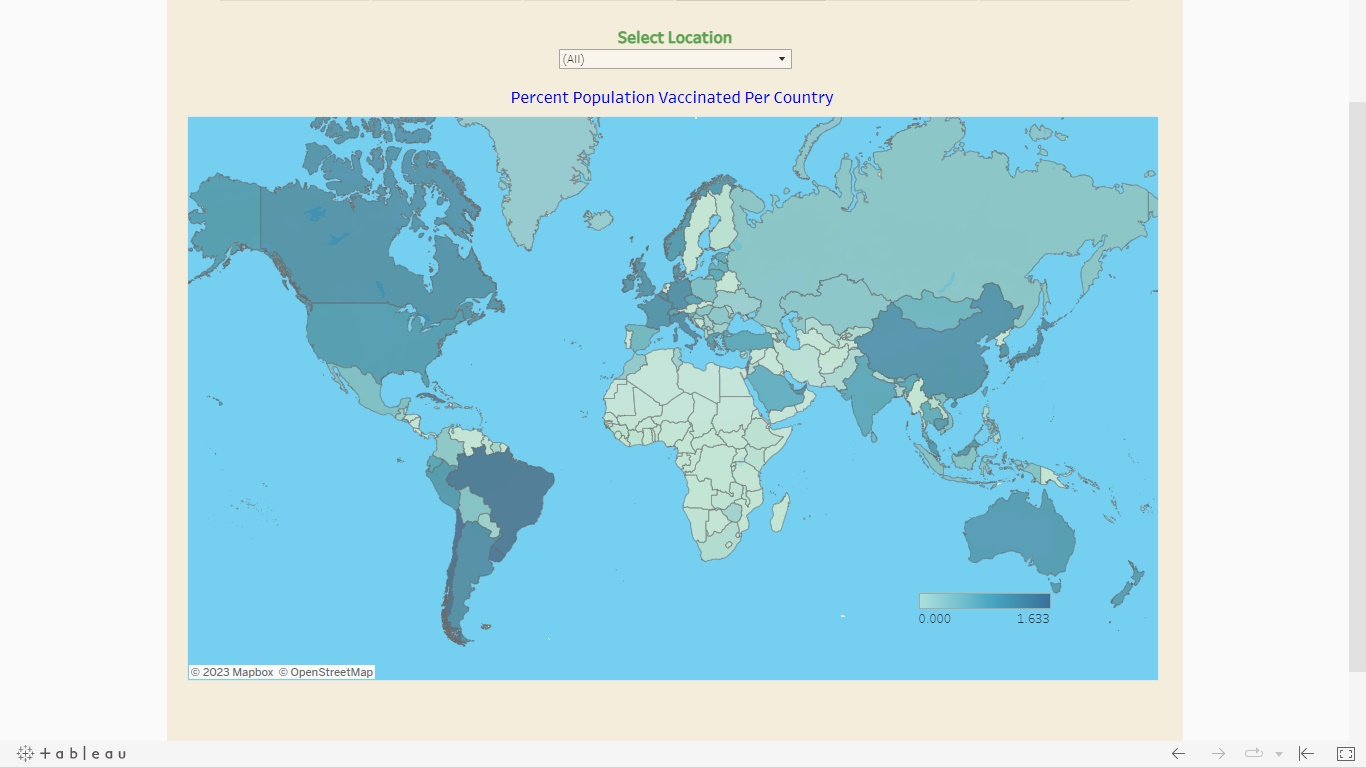

This screenshot's page, from the dashboard's own definition file:
{"tool":"tableau","page":{"name":"Dashboard 4","canvas":[1000,800],"ordinal":3},"visuals":[{"type":"worksheet","title":"% Popn Vaccinated MAP","mark":"Automatic","box":[12,66,972,603]},{"type":"legend","title":"% Popn Vaccinated MAP","param":"[federated.1tmdcan19tjyc415lsax00q58y8y].[avg:Percent_People_Vaccinated:qk]","box":[740,577,140,76]}]}

Visuals, with their boxes on the page's 1000x800 design canvas (x1, y1, x2, y2). These are canvas units, not pixel positions in the 1366x768 screenshot, which may show the page scaled, cropped or inside an application window:
"% Popn Vaccinated MAP" worksheet: BBox(12, 66, 984, 669)
"% Popn Vaccinated MAP" legend: BBox(740, 577, 880, 653)
